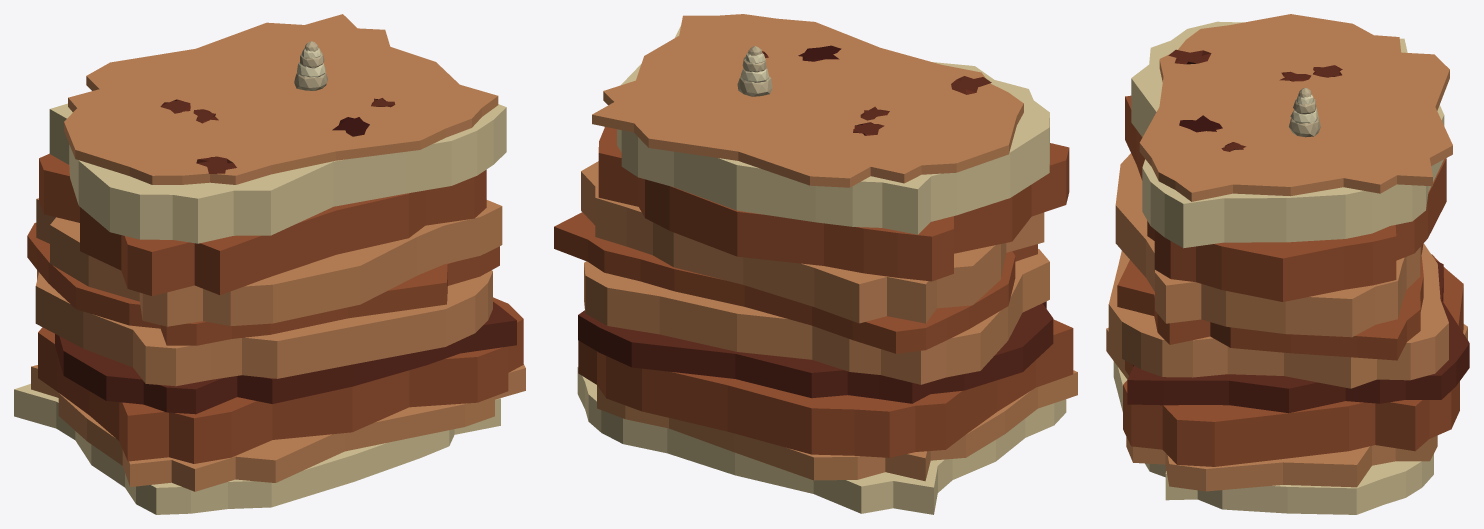
File: redrock_ledge_3.glb
The picture shows the model from 3 angles, left to right: view 1: azimuth 30°, elevation 25°; view 2: azimuth 150°, elevation 25°; view 3: azimuth 270°, elevation 25°; orthographic projection. The views are drawn at different scales.
Parts seen in each view (by area): view 1: redrock_ledge_3; view 2: redrock_ledge_3; view 3: redrock_ledge_3.
Boxes of the visible parts, bbox=[...] form: redrock_ledge_3: bbox=[14, 14, 525, 514]; redrock_ledge_3: bbox=[554, 14, 1077, 514]; redrock_ledge_3: bbox=[1106, 14, 1469, 514].
Bounding box in the file's own units: 12.21 × 10.24 × 9.49.
